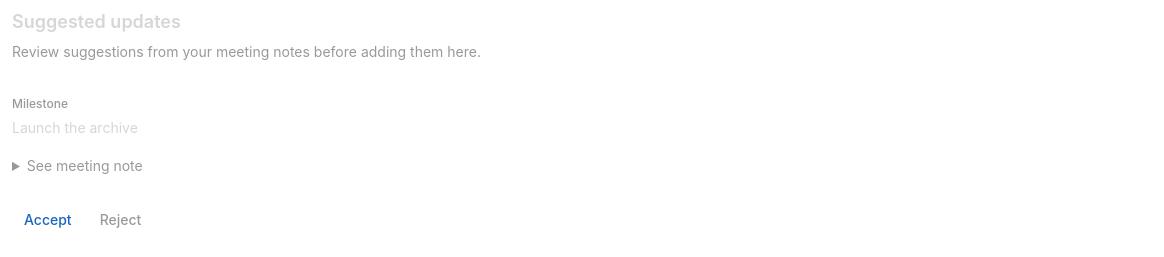
it: shows a truthful stale decision result
Click the button "Accept" at (48, 220), box [12,200,84,240]
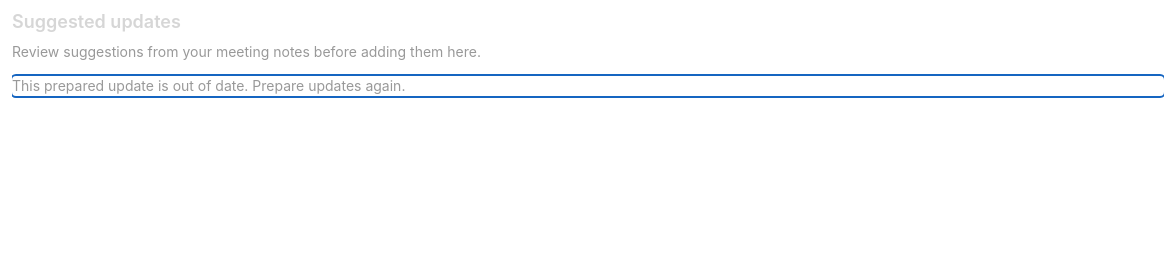
Result: the text "This prepared update is out of date. Prepare updates again." is shown at [12,77,405,94]
